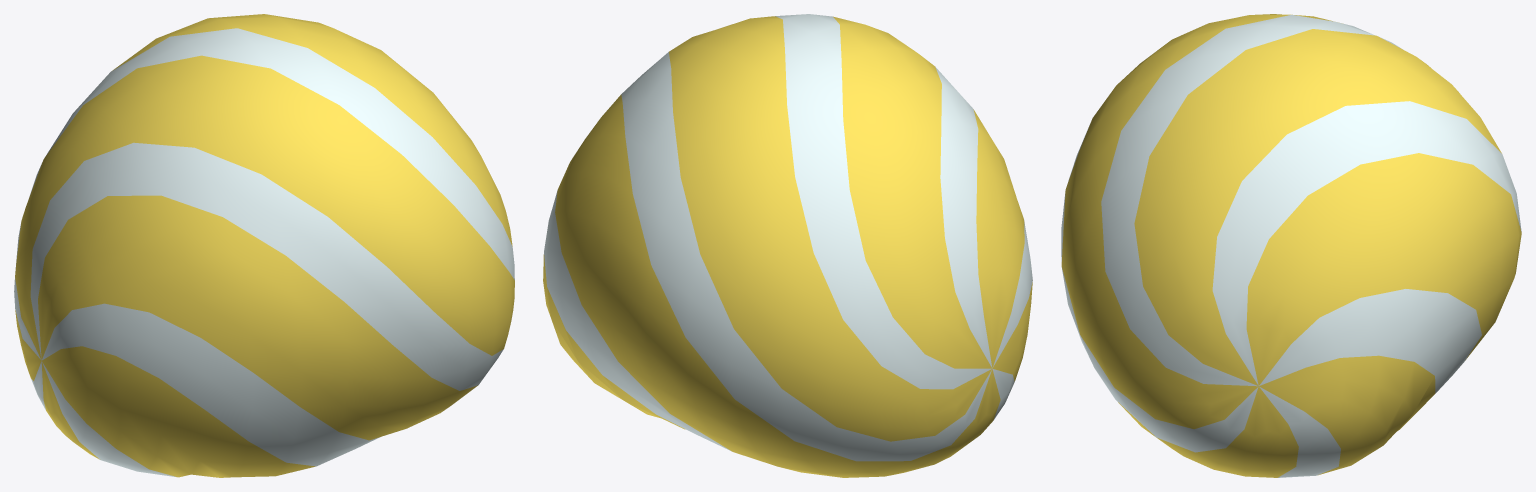
The model's file is CandyPlant_A_01.fbx.
3 views of the same model, side by side, from view 1: azimuth 30°, elevation 25°; view 2: azimuth 150°, elevation 25°; view 3: azimuth 270°, elevation 25° (orthographic). The views are drawn at different scales.
Visible parts, largest first — view 1: CandyPlant_A_01_LOD0; view 2: CandyPlant_A_01_LOD0; view 3: CandyPlant_A_01_LOD0.
Part boxes in pixels (x1,y1,x2,y2): CandyPlant_A_01_LOD0: [14, 14, 514, 477]; CandyPlant_A_01_LOD0: [543, 14, 1032, 477]; CandyPlant_A_01_LOD0: [1061, 14, 1521, 477].
Size of what is drawn, in the model's own units: 430 by 390 by 401.
